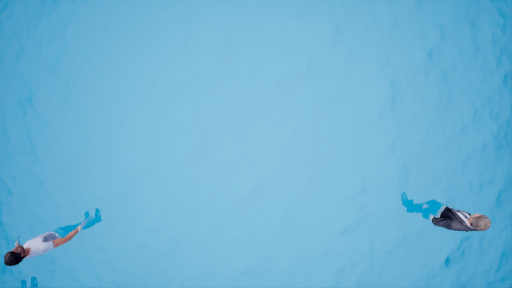person: (3, 211, 110, 261), (402, 191, 497, 238)
